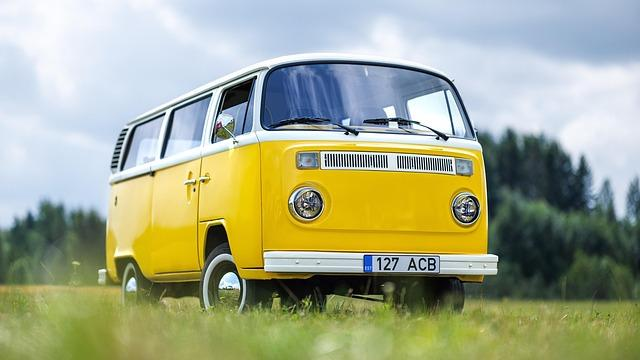Non_Gorille: (88, 54, 540, 317)
